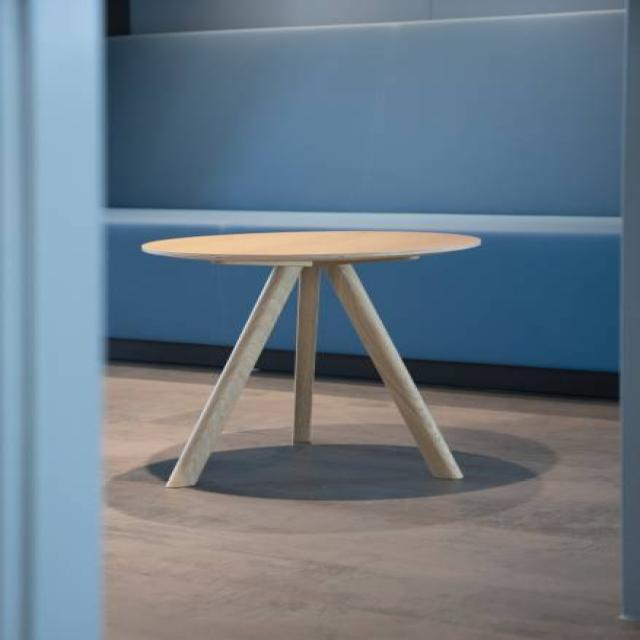table: (138, 228, 482, 488)
